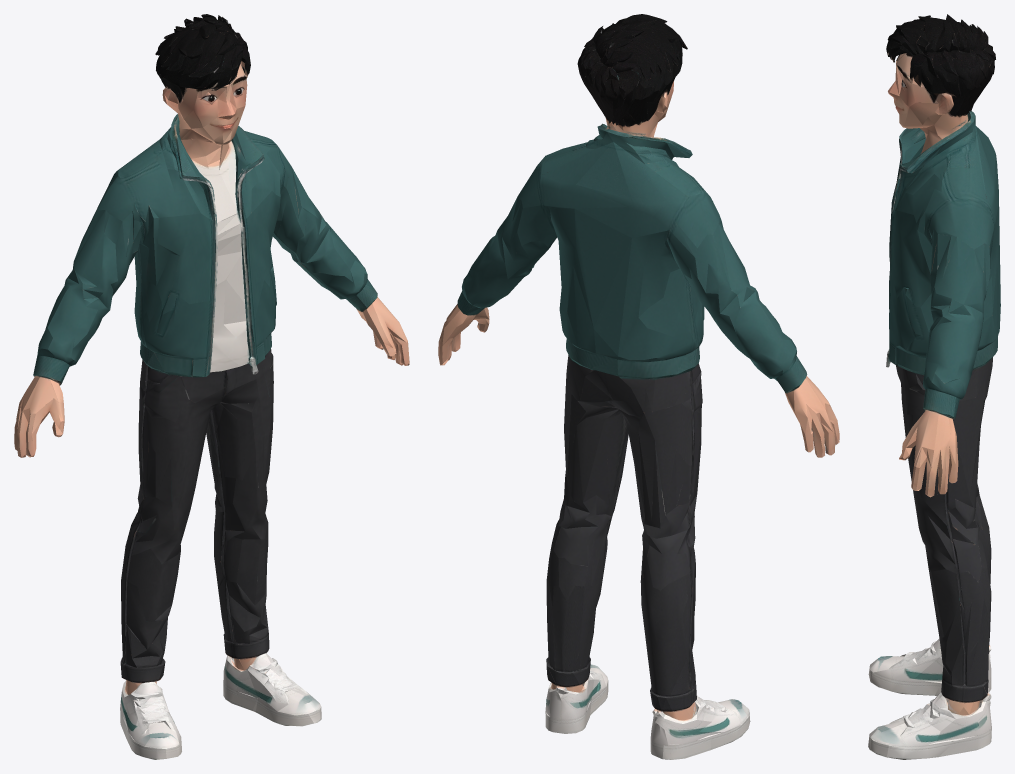
Rendered from alex-meshy-source.glb.
The picture shows the model from 3 angles, left to right: view 1: azimuth 30°, elevation 25°; view 2: azimuth 150°, elevation 25°; view 3: azimuth 270°, elevation 25°; orthographic projection.
Bounding box in the file's own units: 1.1 × 1.9 × 0.3266.
Materials: 1 (1 with a texture image).
